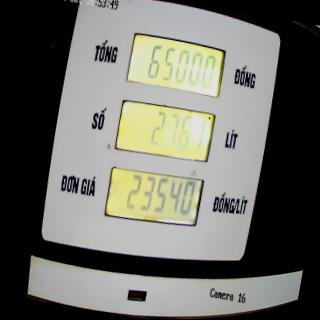screen: (100, 26, 230, 238)
